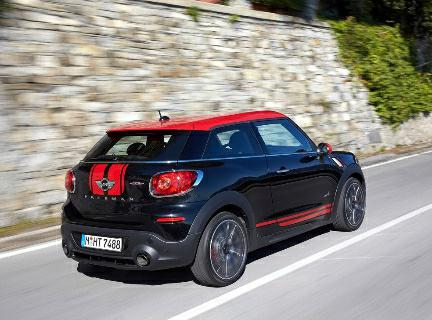MINI-JCWPACEMAN: (51, 110, 376, 283)
